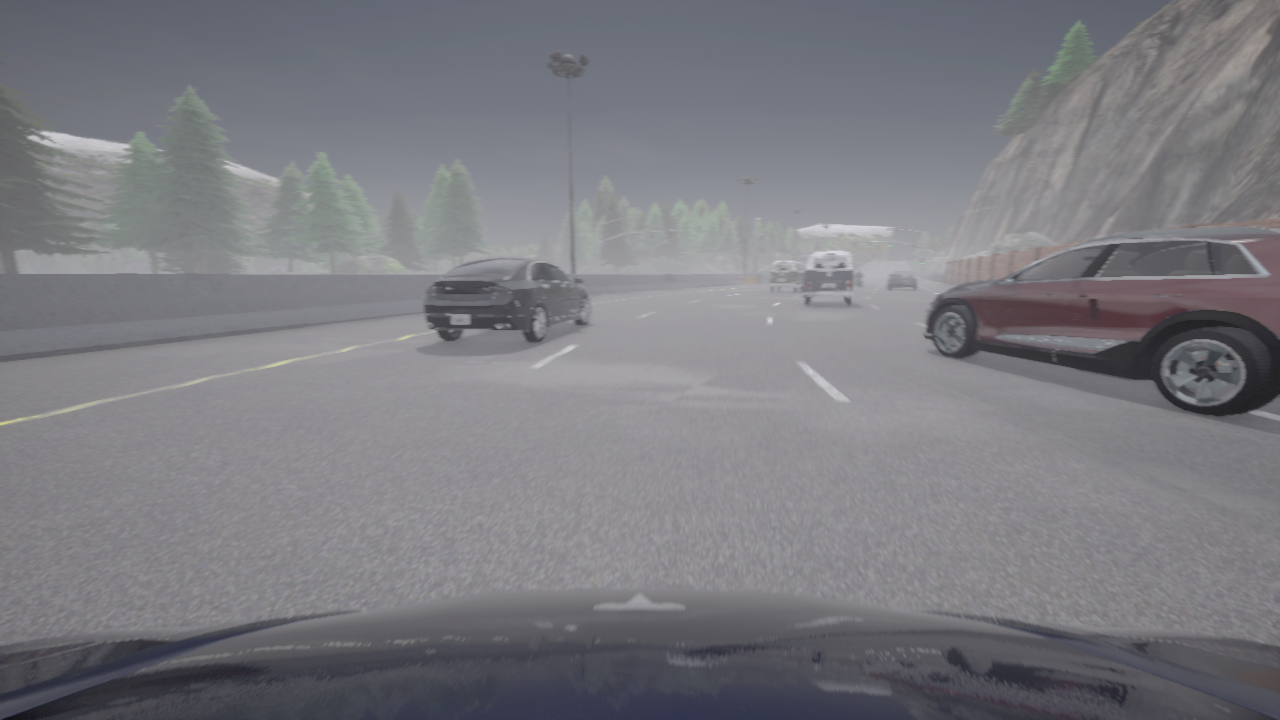cyclist: (0, 588, 1279, 719), (924, 227, 1279, 416), (423, 256, 590, 342), (804, 250, 855, 305), (769, 260, 806, 291), (888, 271, 918, 289), (856, 275, 862, 285)
